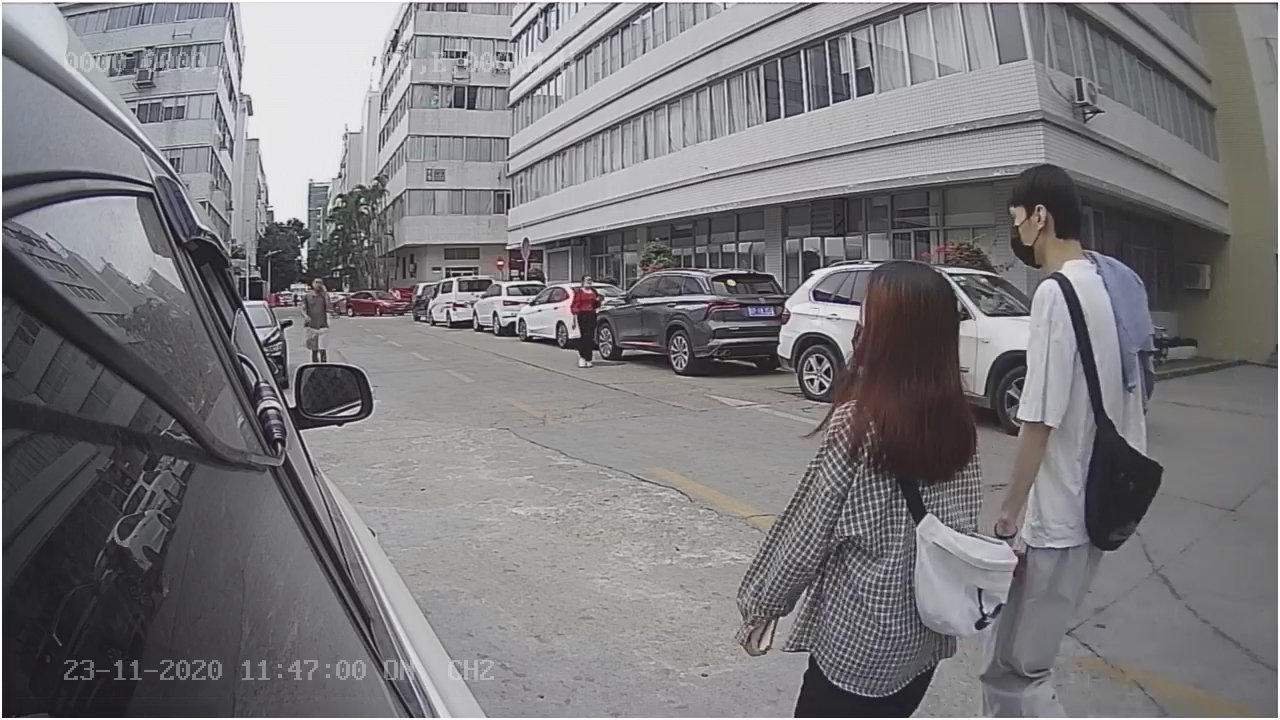person: (810, 250, 980, 553)
